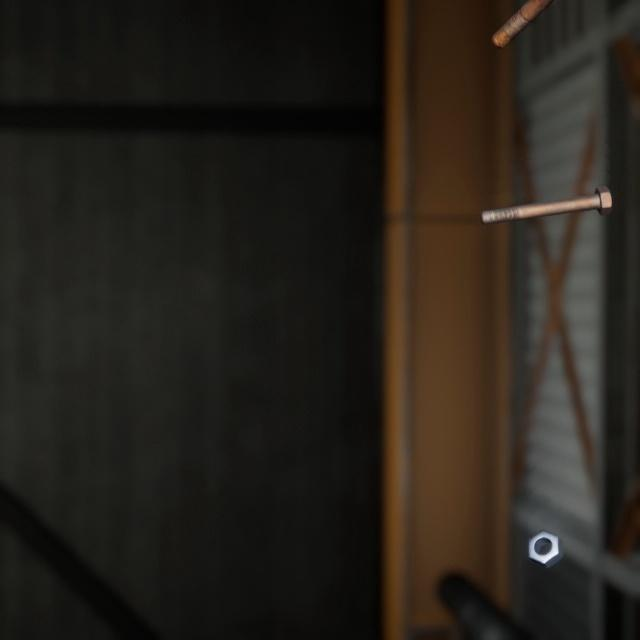bolt: (475, 166, 616, 214), (487, 0, 552, 46)
nut: (523, 503, 567, 550)
